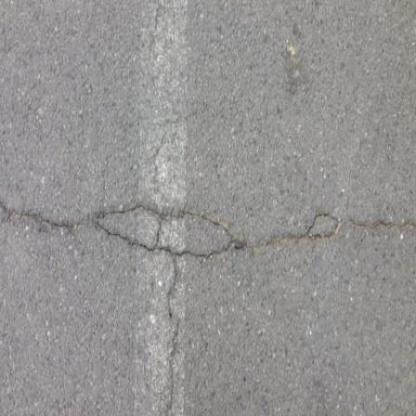Cracks: (2, 160, 416, 267), (135, 0, 212, 416)
